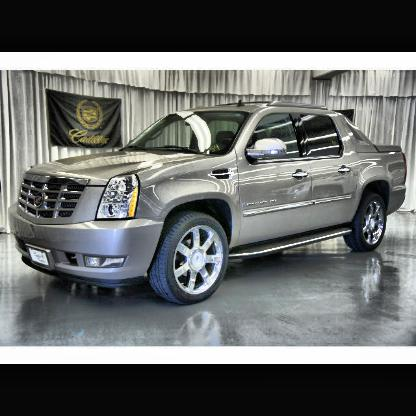Cadillac Escalade EXT Crew Cab 2007: (13, 99, 412, 306)
